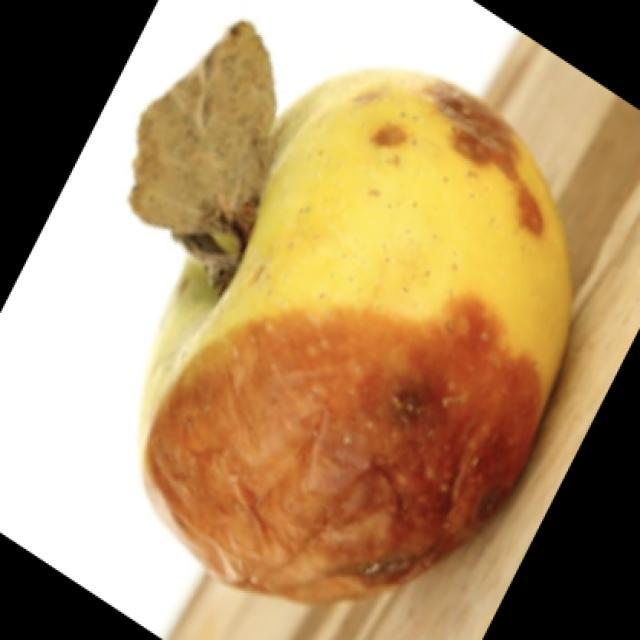Rotten: (90, 63, 582, 600)
